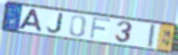0: (68, 15, 87, 38)
3: (113, 21, 134, 44)
A: (18, 8, 43, 33)
F: (88, 16, 113, 40)
I: (147, 23, 157, 49)
J: (46, 13, 63, 35)
